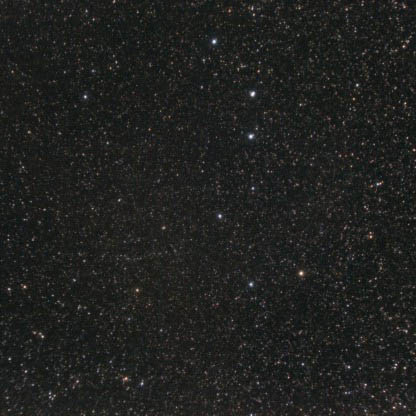Ursa Major: (240, 273, 269, 298), (290, 258, 312, 284), (210, 203, 229, 233), (241, 83, 263, 107), (241, 177, 263, 201), (206, 31, 227, 56), (240, 124, 260, 148)
